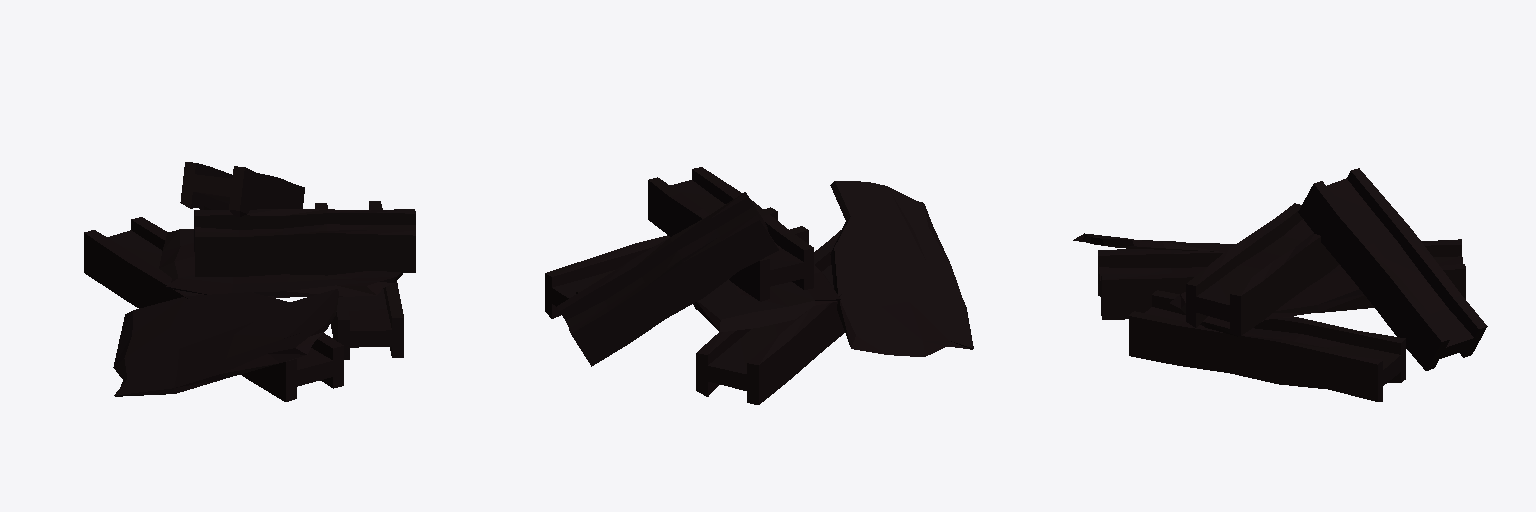
File: ScrapMetal.obj
The picture shows the model from 3 angles: view 1: azimuth 30°, elevation 25°; view 2: azimuth 150°, elevation 25°; view 3: azimuth 270°, elevation 25°; orthographic projection.
Parts seen in each view (by area): view 1: Cube.002; view 2: Cube.002; view 3: Cube.002.
Boxes of the visible parts, box(x1,y1,x2,y2) form: Cube.002: box(84, 162, 415, 401); Cube.002: box(545, 167, 973, 404); Cube.002: box(1073, 168, 1487, 401).
Bounding box in the file's own units: 3.68 × 1.52 × 3.8.